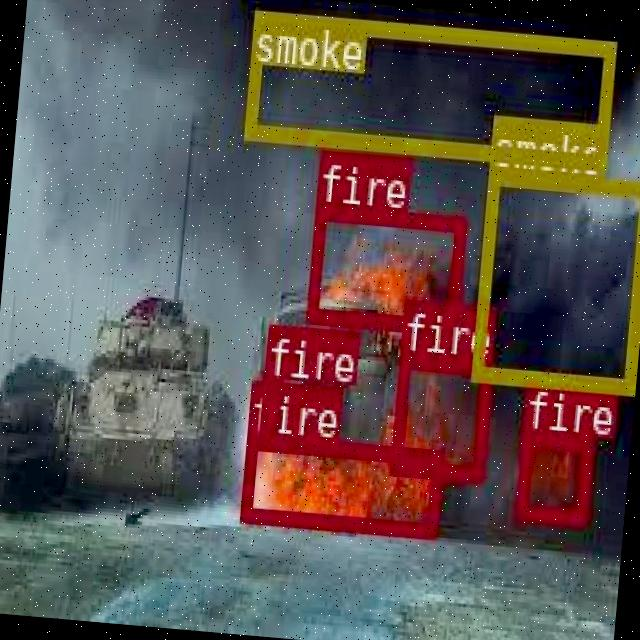fire: (239, 430, 441, 536), (304, 202, 466, 332), (388, 350, 491, 478), (515, 430, 592, 522), (258, 377, 280, 428)
smoke: (242, 9, 612, 166), (469, 167, 640, 389)
